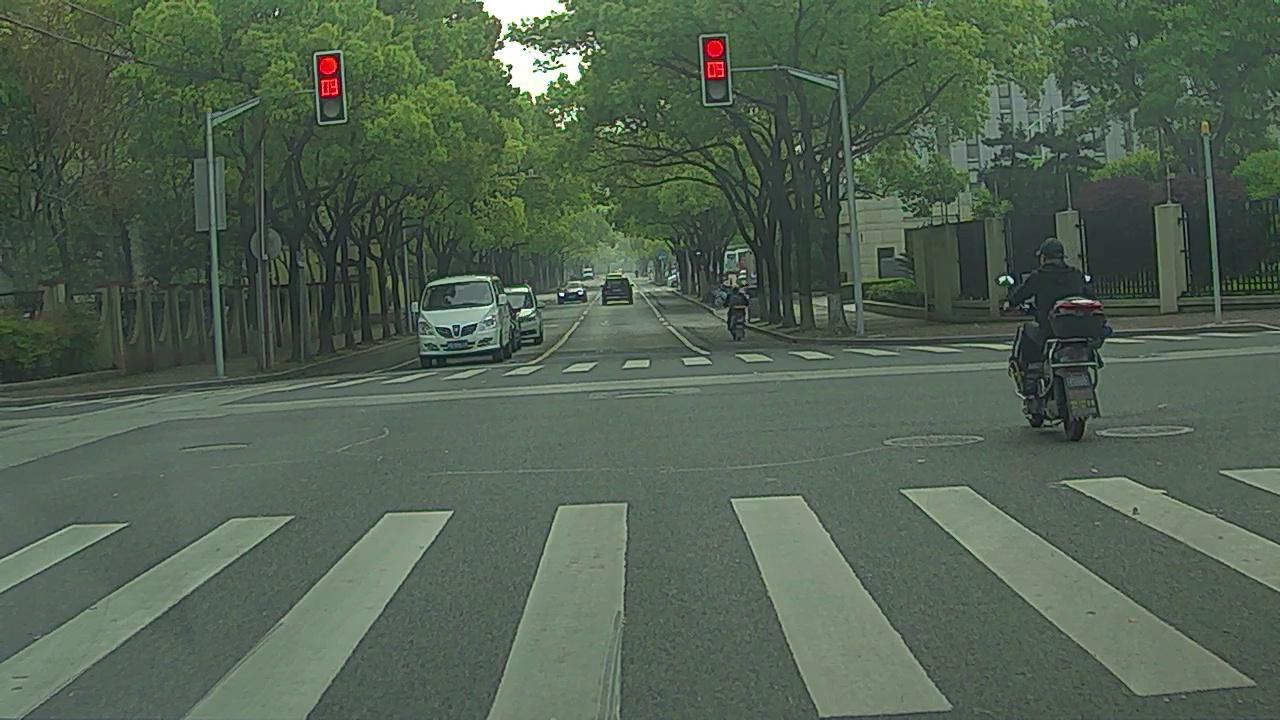traffic_light: (314, 52, 344, 124), (703, 33, 731, 103)
